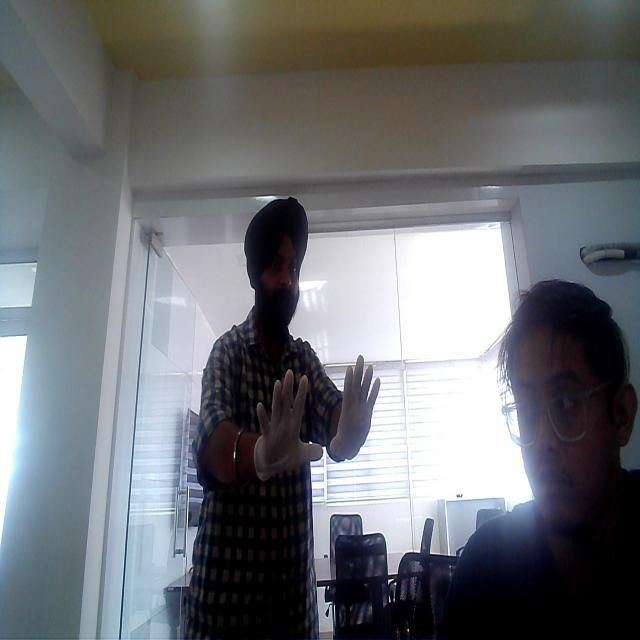with_gloves: (254, 372, 328, 498), (320, 345, 383, 482)
